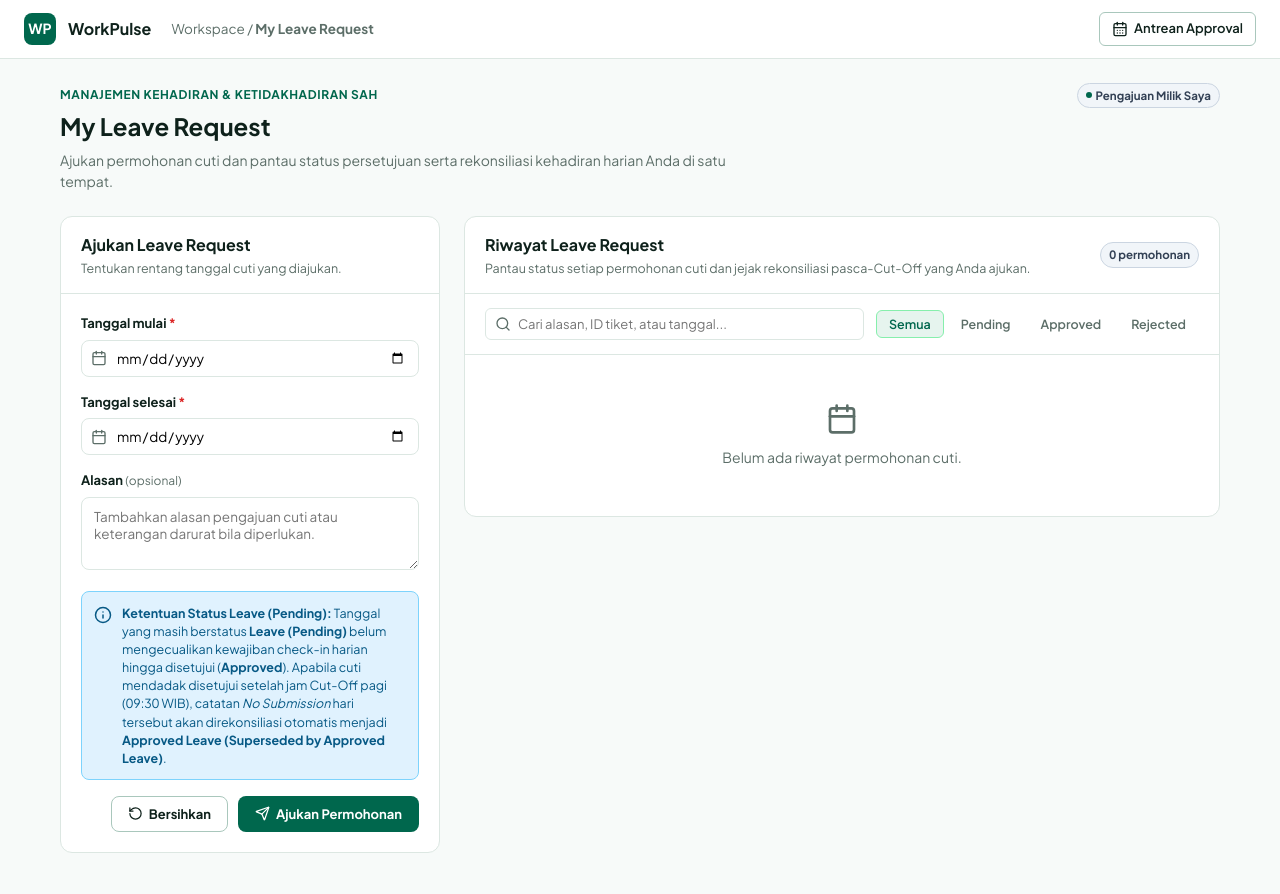
MyLeaveRequestView.vue (Prototipe 20 / EP10 - Pengajuan Cuti Mandiri) › validates date range when end date is earlier than start date
Step 1. Type "2026-10-25" into the date field with id "startDate" → (250, 358), box [81,340,419,377]
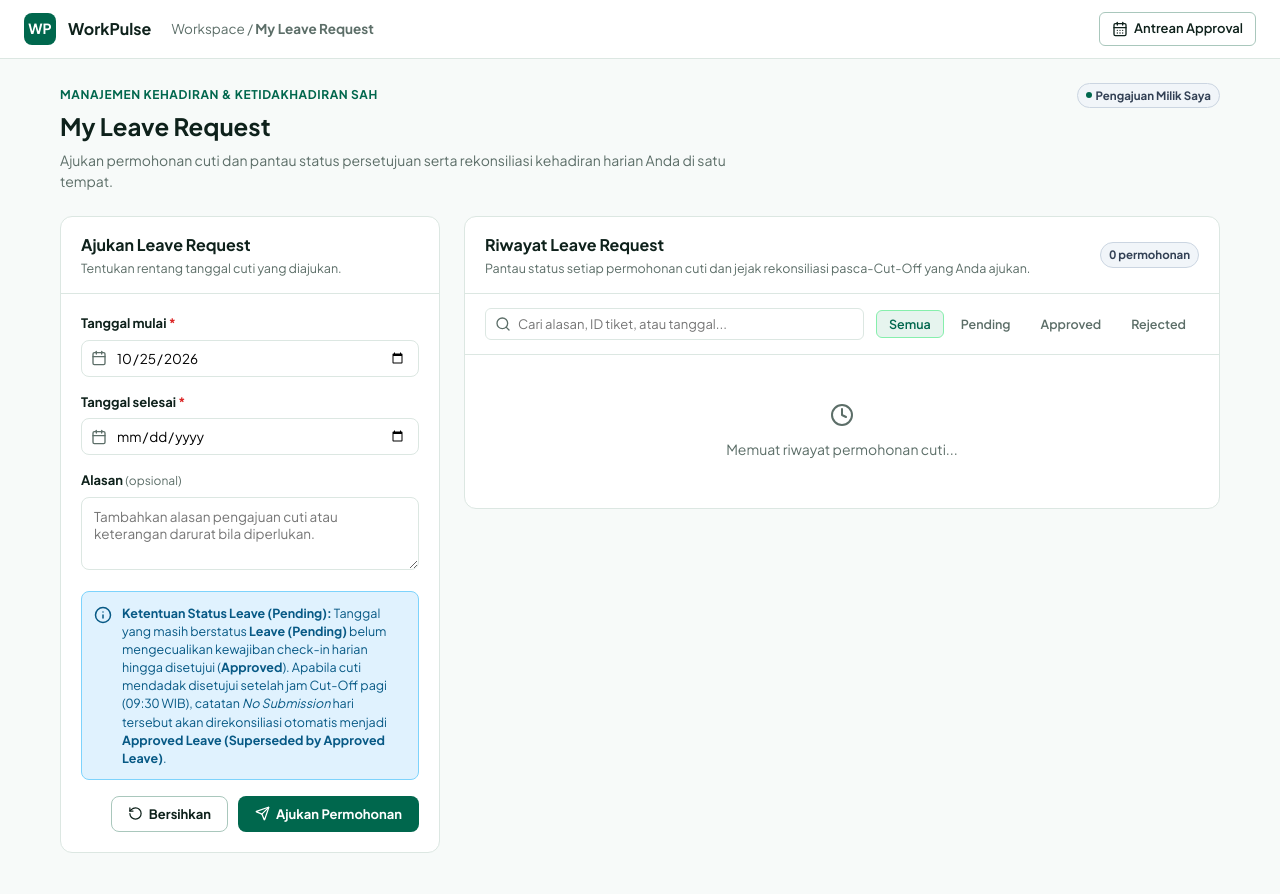
Step 2. Type "2026-10-20" into the date field with id "endDate" → (250, 437), box [81,418,419,455]
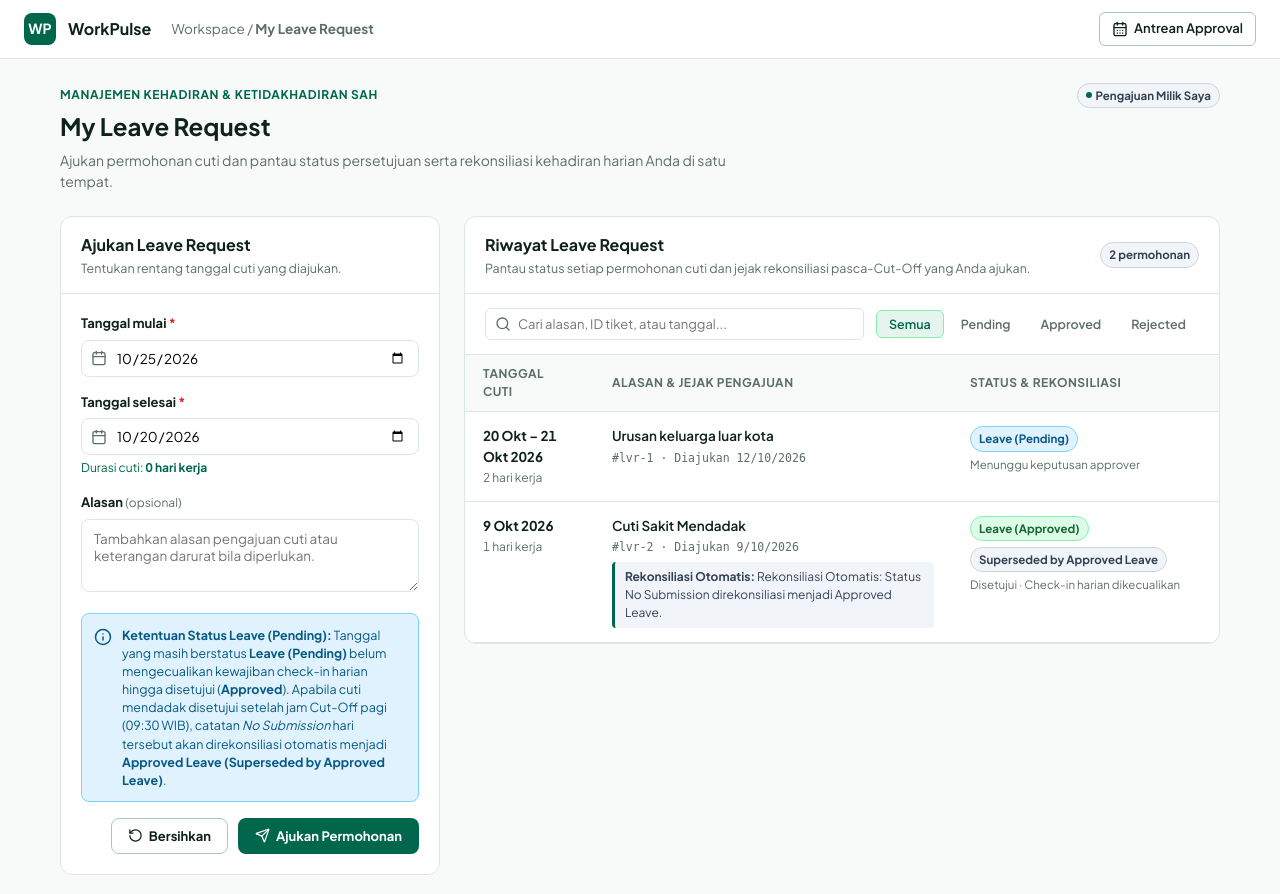
Step 3. Submit the form, box [81,314,419,854]
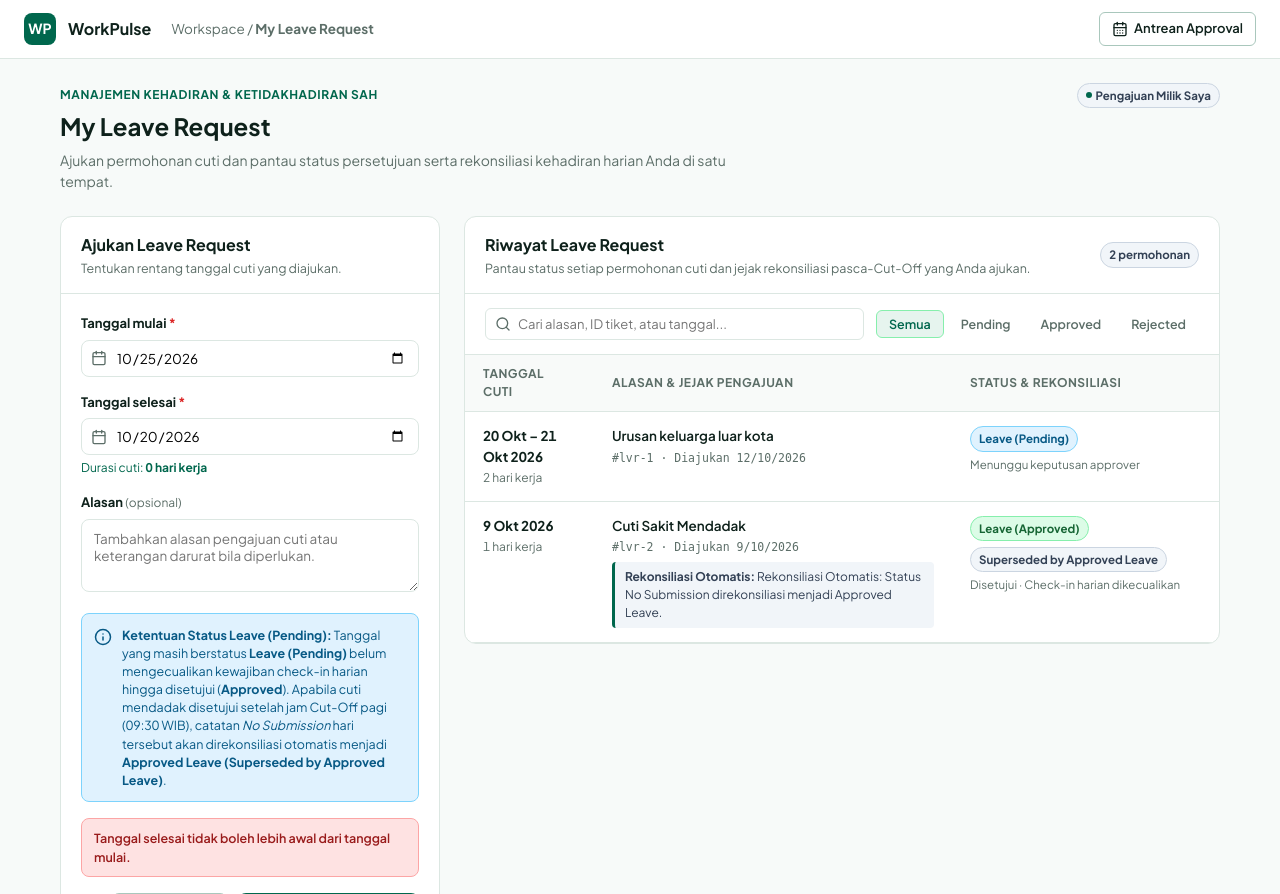
Result: the text "Tanggal selesai tidak boleh lebih awal dari tanggal mulai." is shown at [81,818,419,877]
